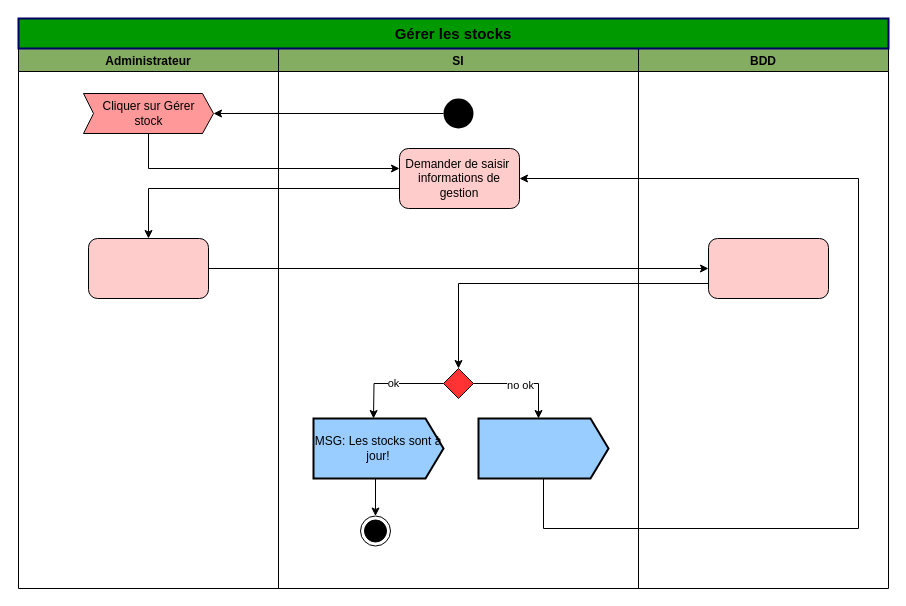
Image size: 906x606. Some labels were removed from this diagram. Here are the shapes that lost their labels. From the top down, the centre of each, then its label:
the point at 148,268: Saisir informations de gestion
the point at 768,268: Exécuter requête mise à jour des stocks
the point at 543,448: MSG: Une erreur est survenue!
